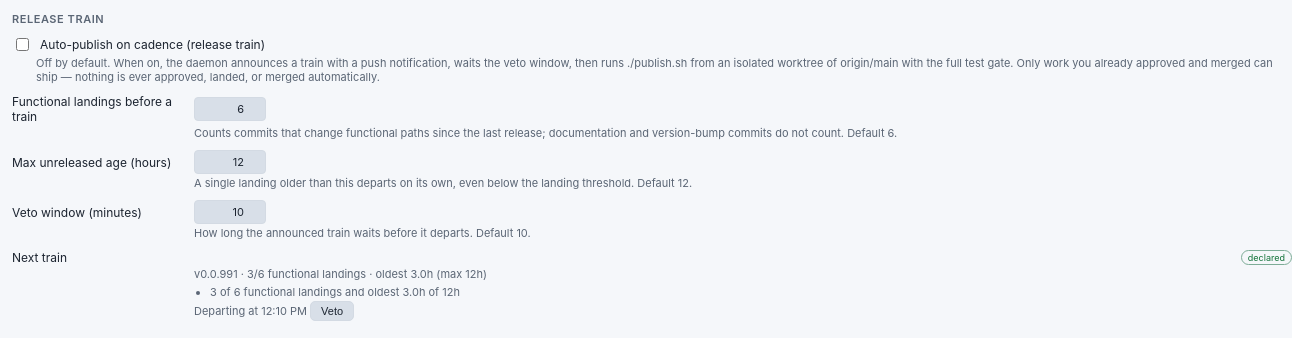
Test case: ReleaseTrainSection › offers a veto while a train is declared and refreshes after it
Click the button "Veto": {"x": 332, "y": 311} [310,301,354,321]
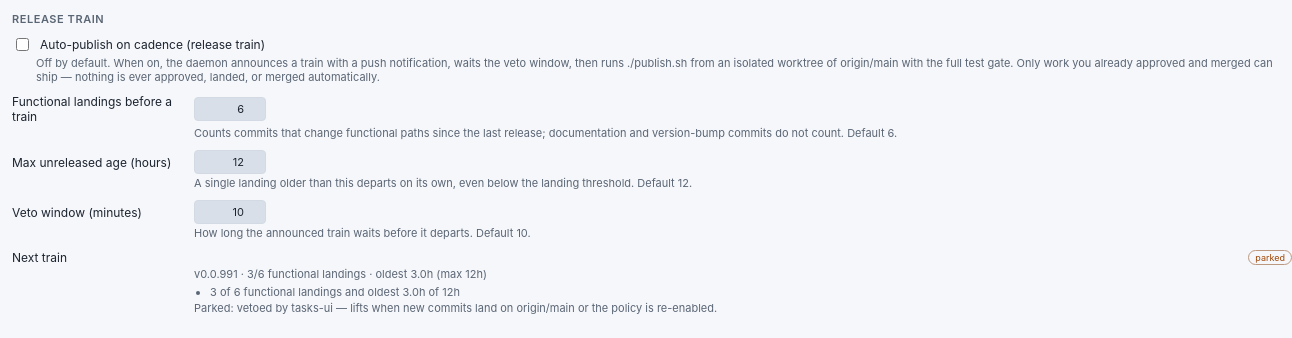
Expected: the text "Parked: vetoed by tasks-ui" is shown, [194,301,717,315]
